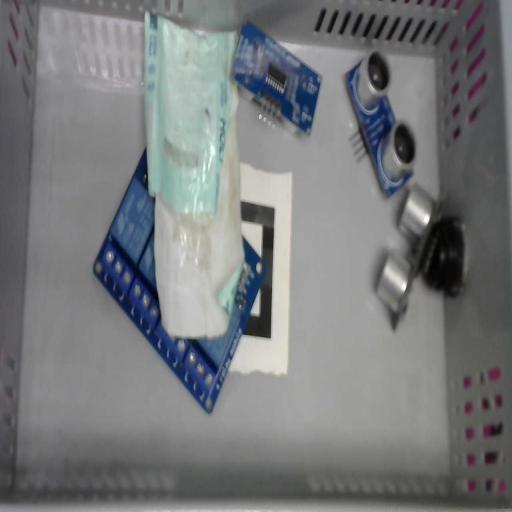relay_module: (92, 147, 266, 415)
triple_syringe: (144, 12, 246, 342)
ultrasonic_hc-sr04: (342, 49, 418, 198), (230, 20, 323, 136), (374, 182, 444, 330)
